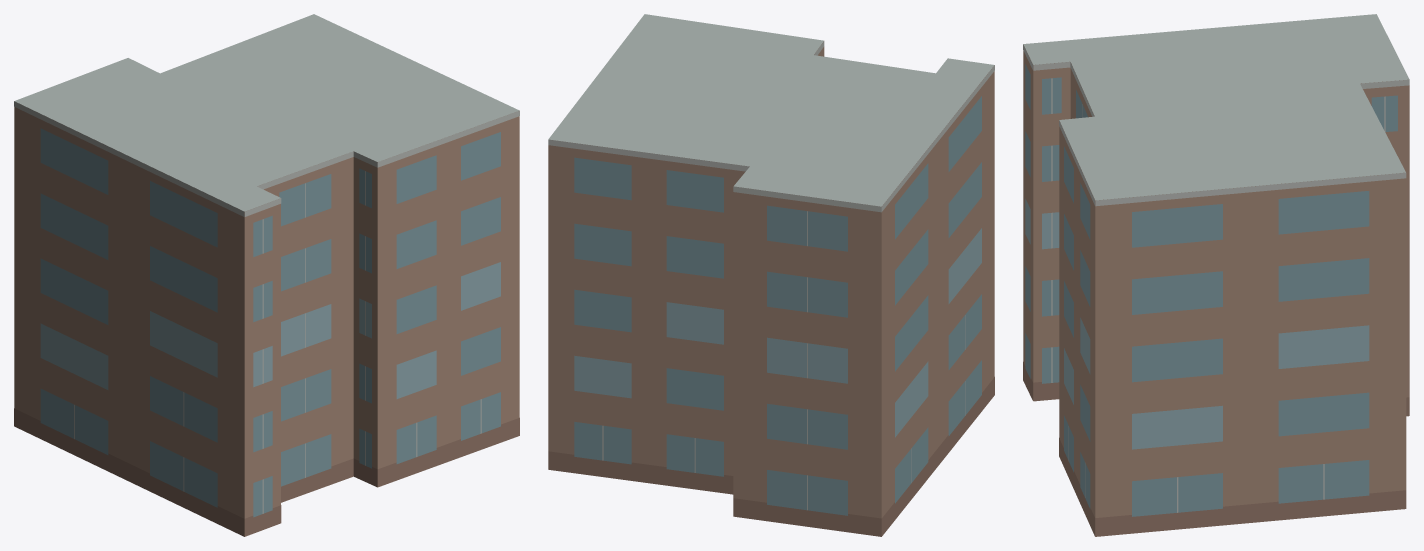
Rendered from survey-upis-32999172.glb.
3 renders of one model, left to right at view 1: azimuth 30°, elevation 25°; view 2: azimuth 150°, elevation 25°; view 3: azimuth 270°, elevation 25°, orthographic. The views are drawn at different scales.
Parts seen in each view (by area): view 1: survey-upis-32999172.tmp; view 2: survey-upis-32999172.tmp; view 3: survey-upis-32999172.tmp.
Part boxes in pixels (bbox=[...]): survey-upis-32999172.tmp: bbox=[14, 14, 519, 536]; survey-upis-32999172.tmp: bbox=[548, 14, 994, 536]; survey-upis-32999172.tmp: bbox=[1023, 14, 1409, 536].
Size of the model in its own units: 16.89 by 14.2 by 14.8.
